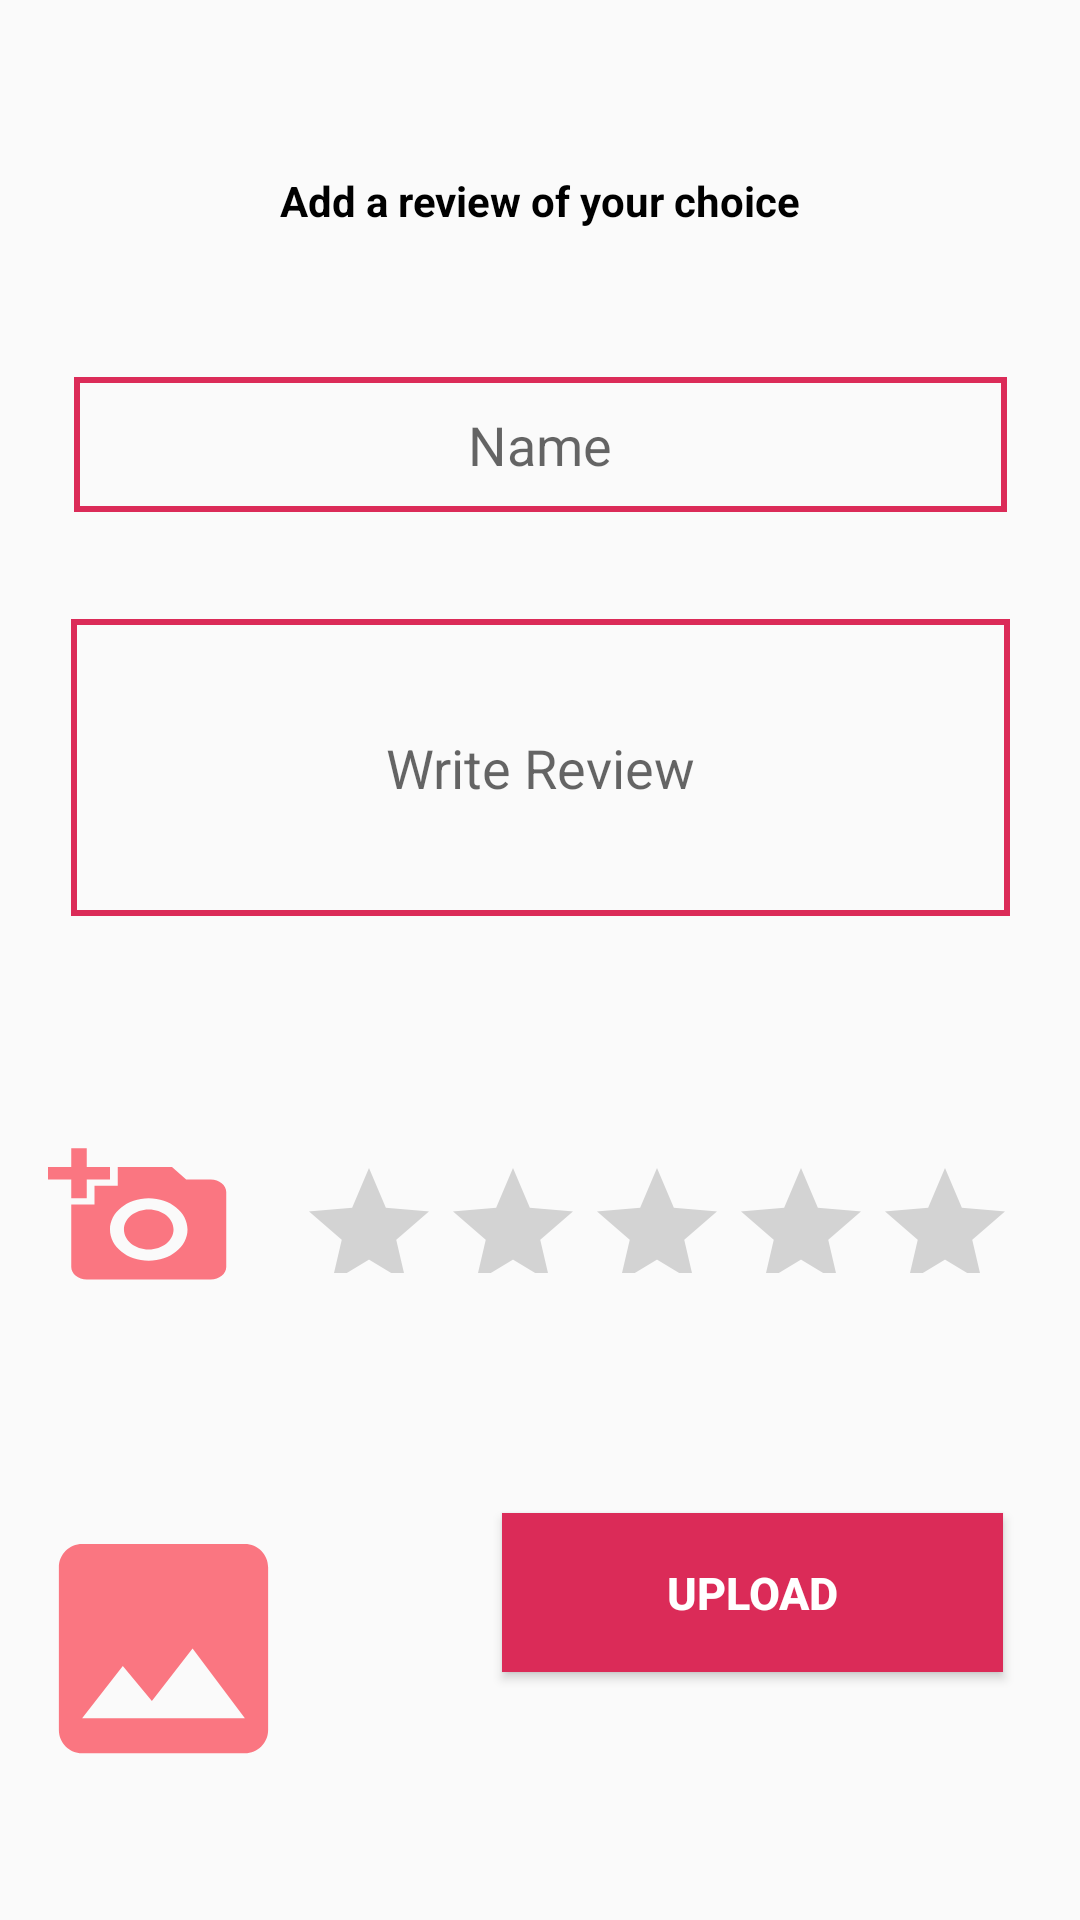

Point at icon controls on the screen. Image size 1080w x 1920h, points as (x=x, y=y).
add photo: (x=137, y=1214)
insert photo: (x=163, y=1649)
